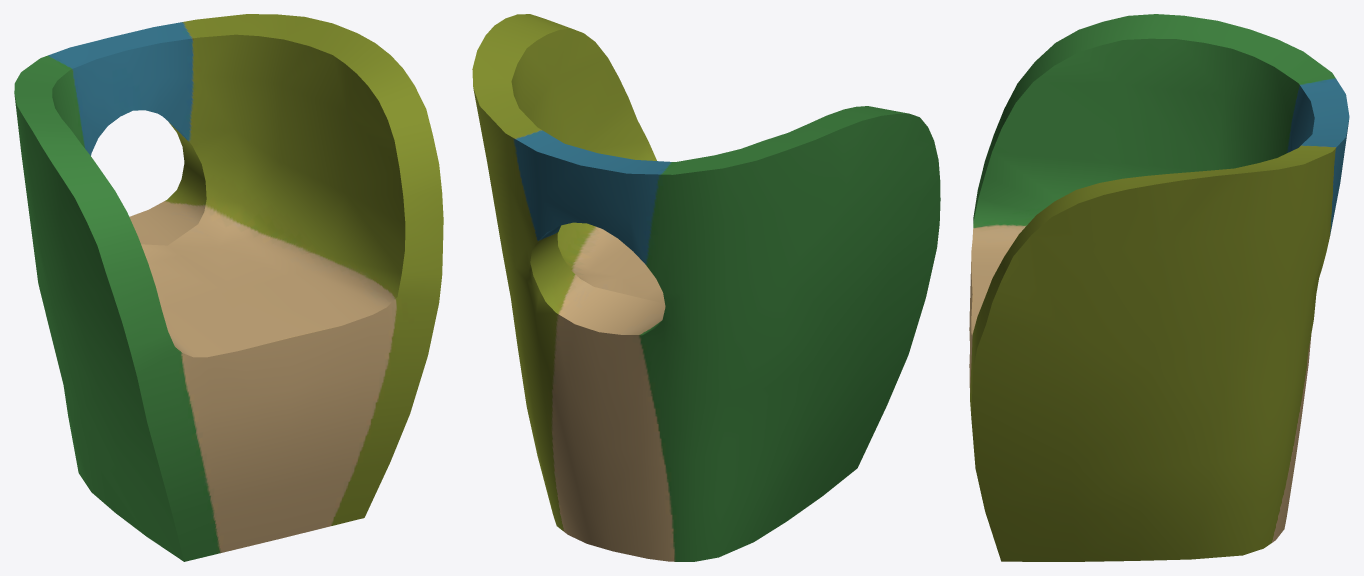
File: Homeworld_Exterior_Common_Chair_Nippon_01_Vo.fbx
3 views of the same model, side by side, from view 1: azimuth 30°, elevation 25°; view 2: azimuth 150°, elevation 25°; view 3: azimuth 270°, elevation 25° (orthographic). The views are drawn at different scales.
Parts seen in each view (by area): view 1: Homeworld_Exterior_Common_Chair_Google_01_Vo; view 2: Homeworld_Exterior_Common_Chair_Google_01_Vo; view 3: Homeworld_Exterior_Common_Chair_Google_01_Vo.
Part boxes in pixels (box(x1,y1,x2,y2)): Homeworld_Exterior_Common_Chair_Google_01_Vo: box(14, 14, 443, 561); Homeworld_Exterior_Common_Chair_Google_01_Vo: box(472, 14, 940, 561); Homeworld_Exterior_Common_Chair_Google_01_Vo: box(969, 14, 1349, 561).
Size of the model in its own units: 0.8583 by 0.9344 by 0.7627.
